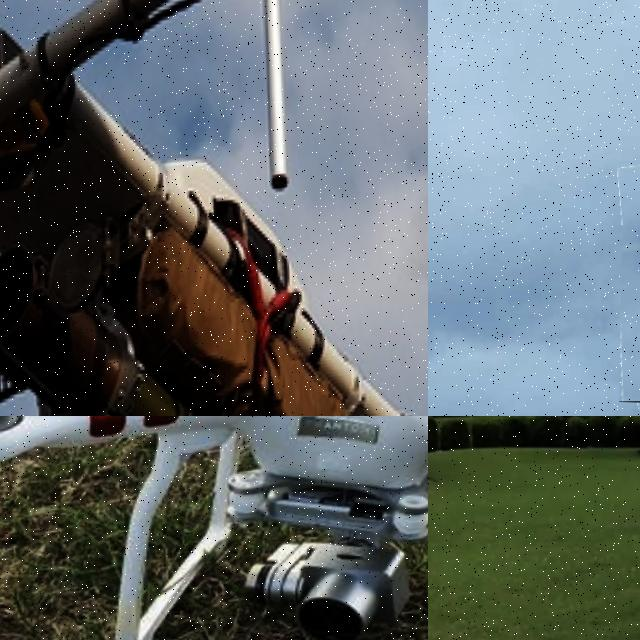drone: (0, 0, 428, 416), (0, 416, 428, 640)
